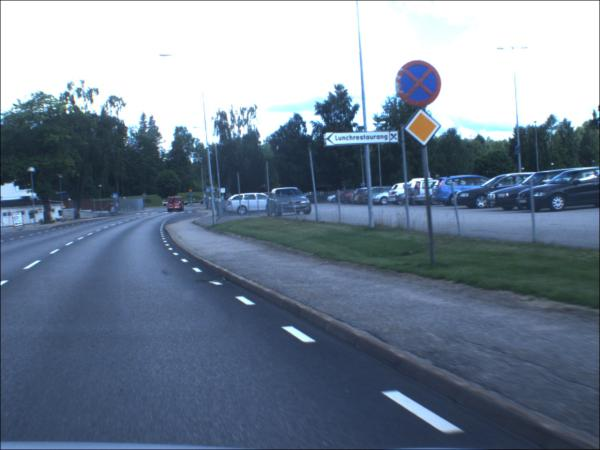GIVE_WAY: (190, 190, 195, 195)
NO_STOPPING_NO_STANDING: (396, 61, 443, 107)
PASS_RIGHT_SIDE: (191, 195, 195, 198)
PEDESTRIAN_CROSSING: (207, 188, 213, 194), (114, 195, 120, 200)
PRIORITY_ROAD: (405, 109, 443, 149)
